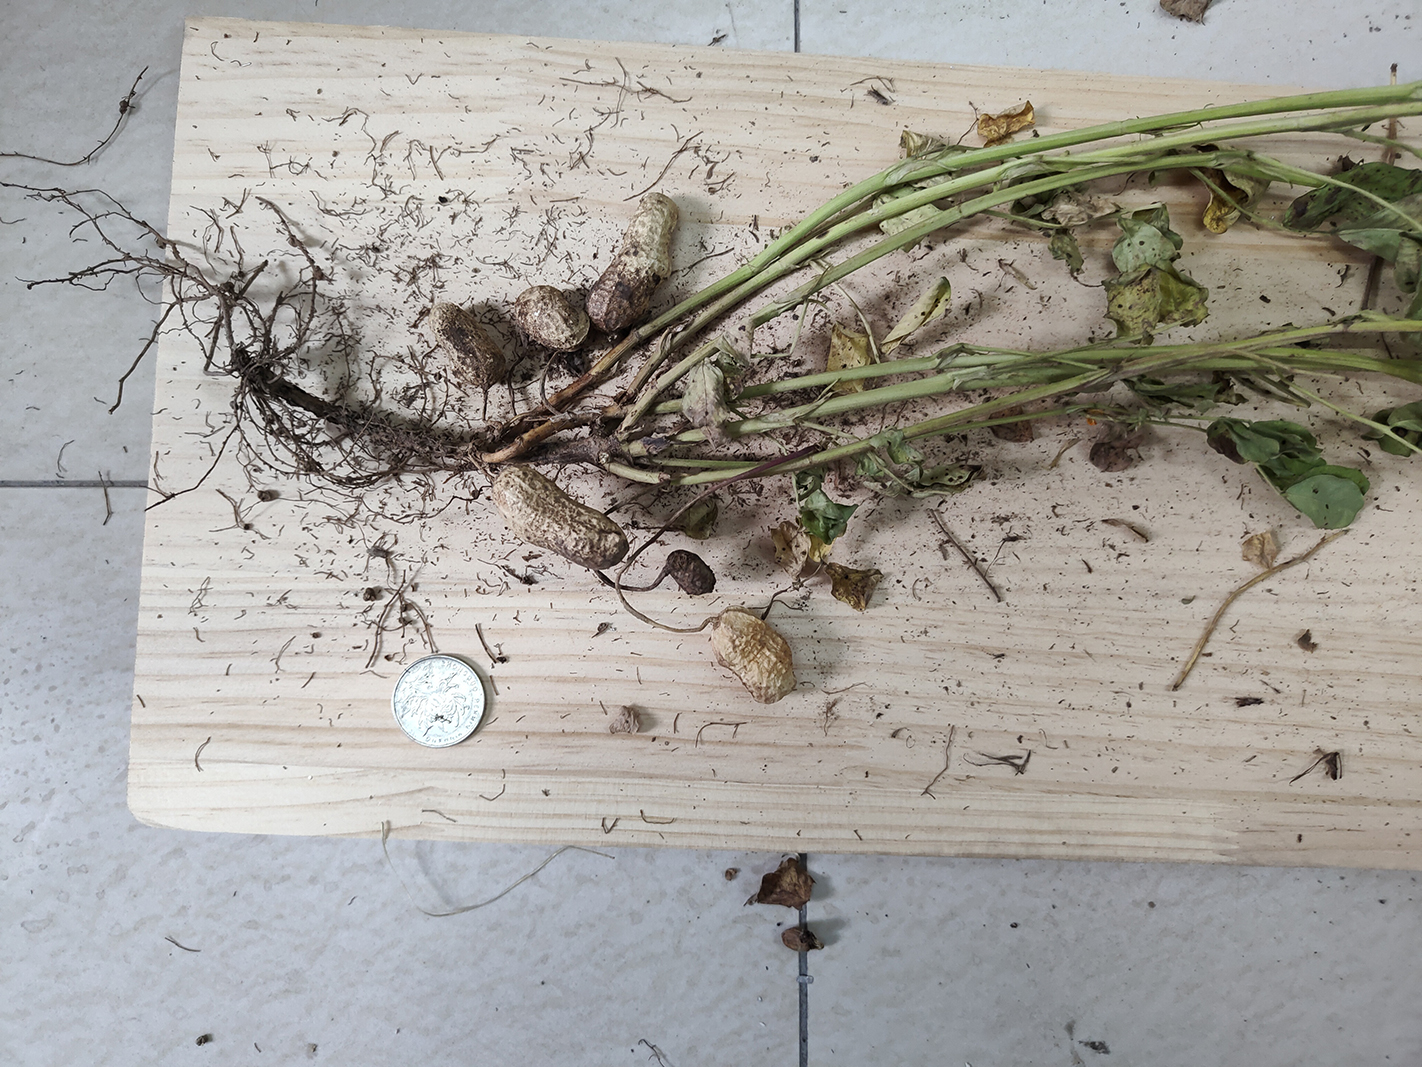h: (492, 463, 628, 568), (710, 607, 794, 705), (515, 288, 591, 349)
l: (587, 191, 678, 336), (431, 304, 505, 388), (669, 549, 716, 595)
